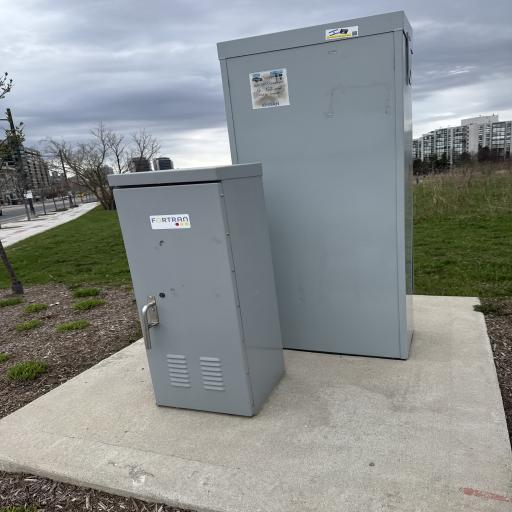Electrical Box: (216, 10, 412, 362), (109, 162, 287, 420)
